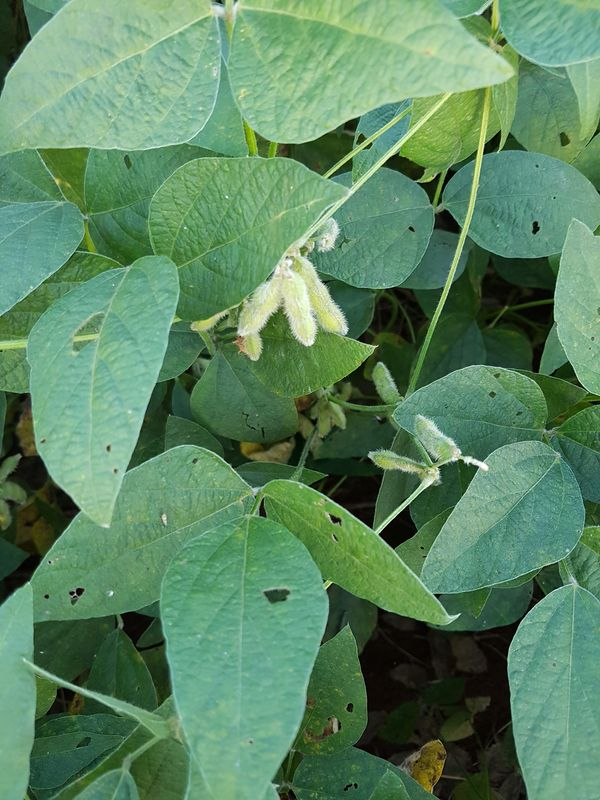Euschistus_heros_adulto: (225, 328, 261, 365)
